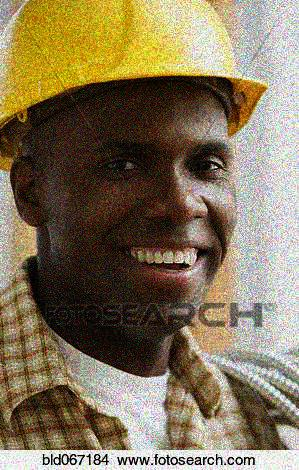helmet: (1, 1, 269, 335)
